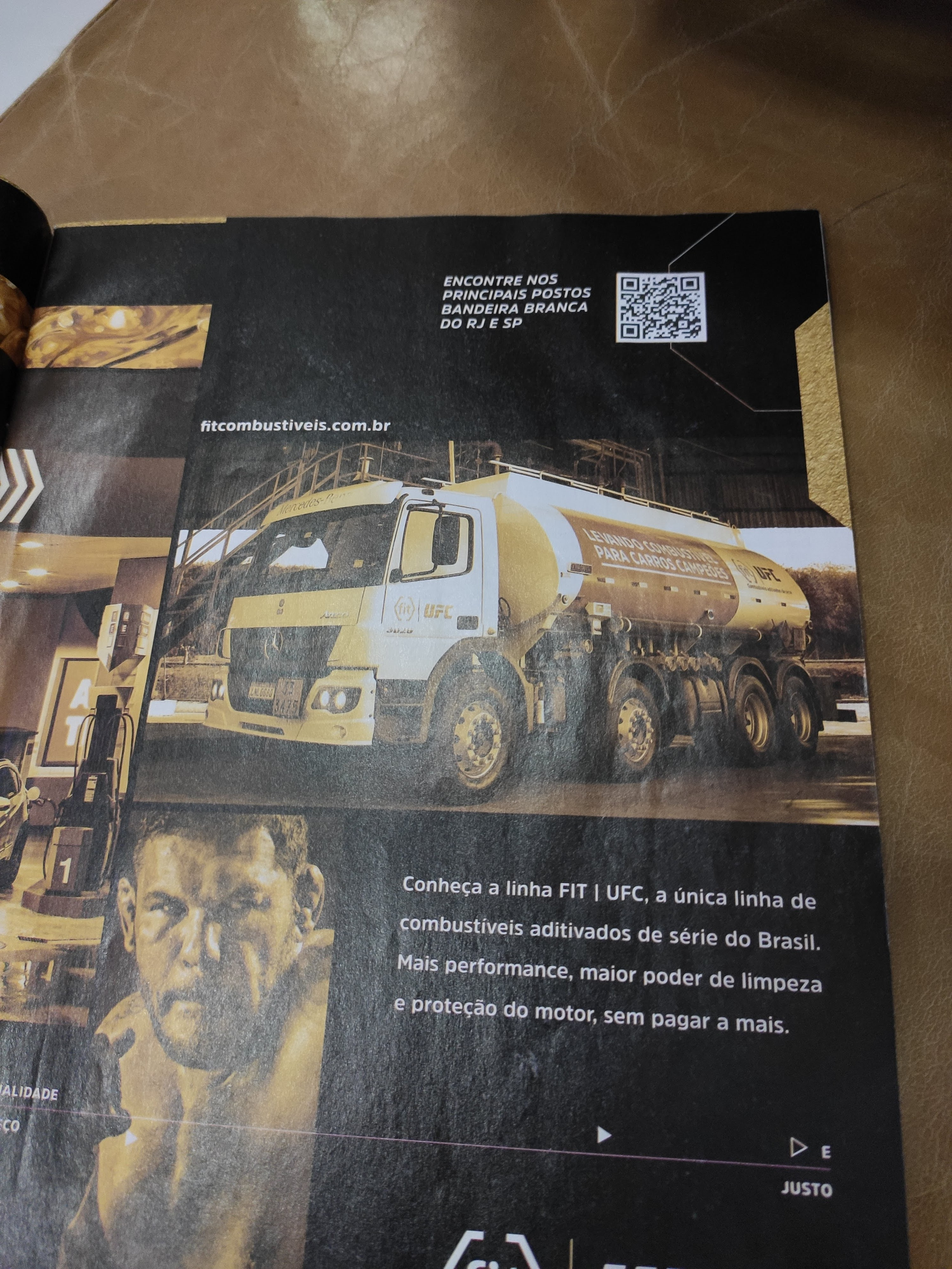QR-CODE: (621, 277, 701, 339)
